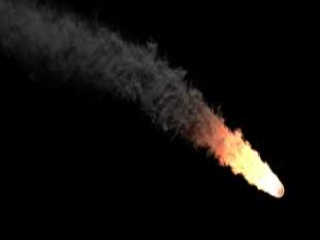fire: (44, 21, 241, 166), (238, 161, 288, 204)
